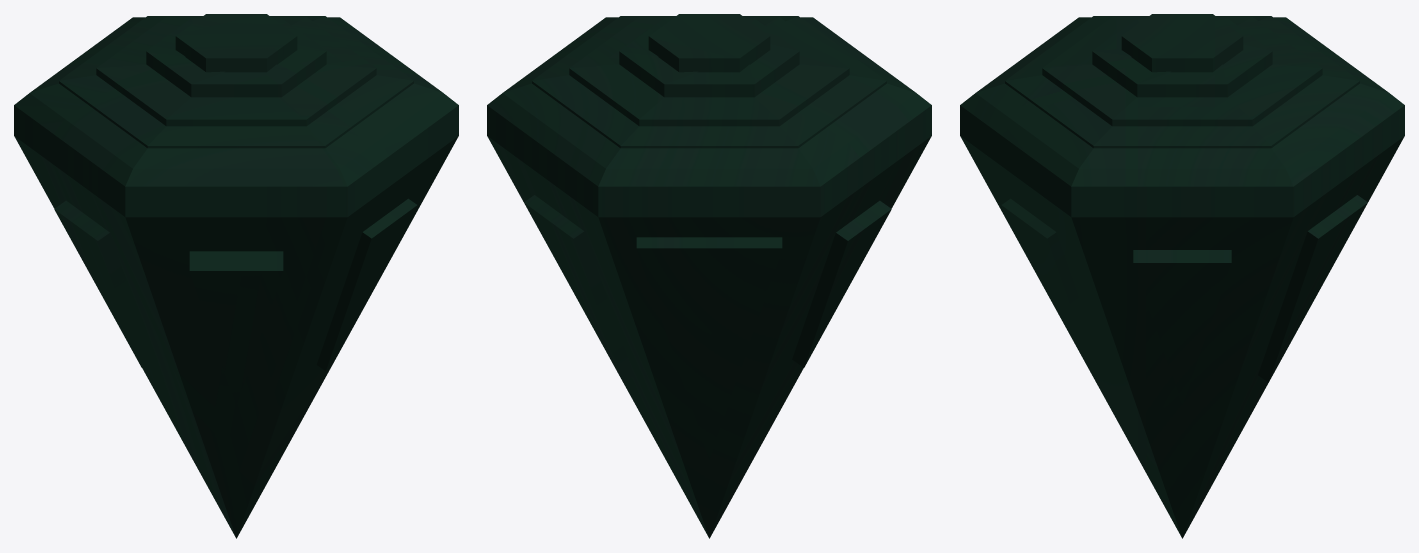
The model's file is CRYSTAL2.fbx.
3 views of the same model, side by side, from view 1: azimuth 30°, elevation 25°; view 2: azimuth 150°, elevation 25°; view 3: azimuth 270°, elevation 25° (orthographic).
Visible parts, largest first — view 1: Cone; view 2: Cone; view 3: Cone.
Part boxes in pixels (left/top/right/bottom): Cone: left=14, top=14, right=458, bottom=538; Cone: left=487, top=14, right=931, bottom=538; Cone: left=960, top=14, right=1404, bottom=538.
Bounding box in the file's own units: 173 × 249 × 200.
